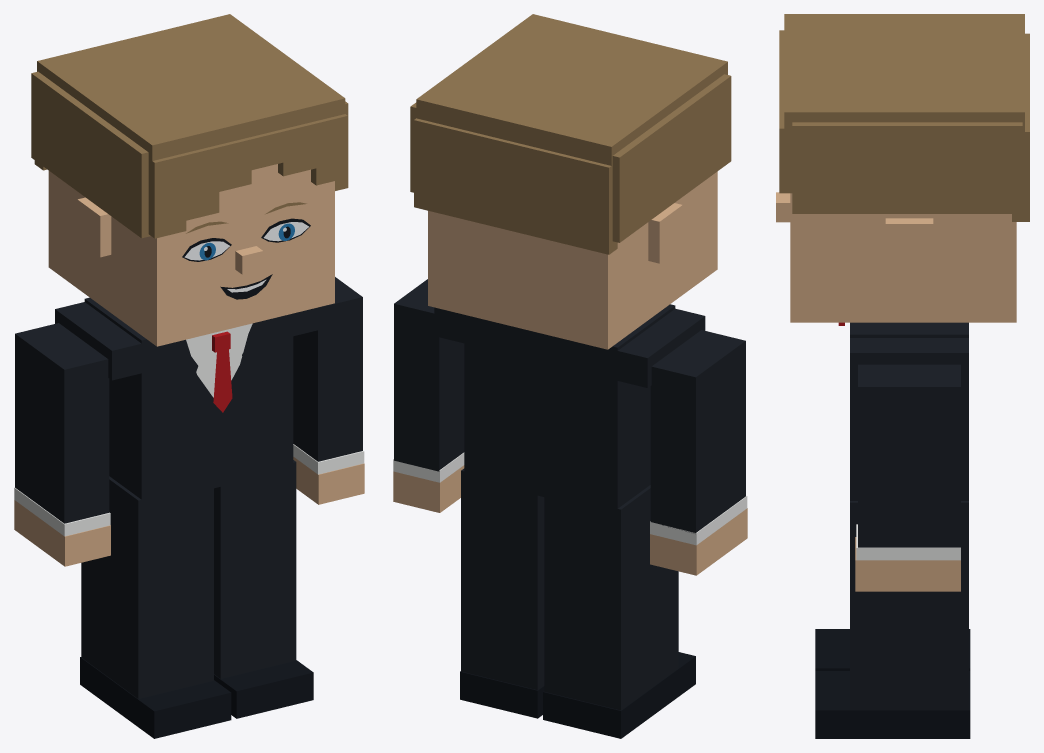
The model's file is baseline_human_base.glb.
3 renders of one model, left to right at view 1: azimuth 30°, elevation 25°; view 2: azimuth 150°, elevation 25°; view 3: azimuth 270°, elevation 25°, orthographic. The views are drawn at different scales.
Visible parts, largest first — view 1: char_hair_visual, char_torso_visual, char_head_visual, char_leg_negx_visual, char_arm_negx_visual, char_leg_posx_visual, char_arm_posx_visual, char_hand_negx_visual, char_hand_posx_visual, char_eye_posx_visual, char_eye_negx_visual; view 2: char_hair_visual, char_torso_visual, char_head_visual, char_leg_negx_visual, char_arm_negx_visual, char_leg_posx_visual, char_arm_posx_visual, char_hand_negx_visual, char_hand_posx_visual; view 3: char_hair_visual, char_head_visual, char_arm_posx_visual, char_leg_posx_visual, char_torso_visual, char_hand_posx_visual, char_leg_negx_visual.
Boxes of the visible parts, <box> form: char_hair_visual: <box>31,14,348,238</box>; char_torso_visual: <box>55,297,322,576</box>; char_head_visual: <box>48,164,334,346</box>; char_leg_negx_visual: <box>80,556,231,738</box>; char_arm_negx_visual: <box>14,323,110,536</box>; char_leg_posx_visual: <box>214,538,313,718</box>; char_arm_posx_visual: <box>293,277,364,474</box>; char_hand_negx_visual: <box>14,500,110,566</box>; char_hand_posx_visual: <box>293,457,364,504</box>; char_eye_posx_visual: <box>261,218,310,242</box>; char_eye_negx_visual: <box>182,238,231,261</box>; char_hair_visual: <box>410,14,731,254</box>; char_torso_visual: <box>434,304,705,586</box>; char_head_visual: <box>428,171,717,349</box>; char_leg_negx_visual: <box>543,564,695,738</box>; char_arm_negx_visual: <box>650,330,747,545</box>; char_leg_posx_visual: <box>460,547,544,718</box>; char_arm_posx_visual: <box>393,279,464,482</box>; char_hand_negx_visual: <box>650,508,747,575</box>; char_hand_posx_visual: <box>393,465,464,512</box>; char_hair_visual: <box>779,14,1029,221</box>; char_head_visual: <box>776,192,1016,322</box>; char_arm_posx_visual: <box>856,364,960,560</box>; char_leg_posx_visual: <box>815,581,970,738</box>; char_torso_visual: <box>838,322,968,587</box>; char_hand_posx_visual: <box>855,537,960,591</box>; char_leg_negx_visual: <box>815,629,970,670</box>.
Bounding box in the file's own units: 0.91 × 1.77 × 0.6395.
